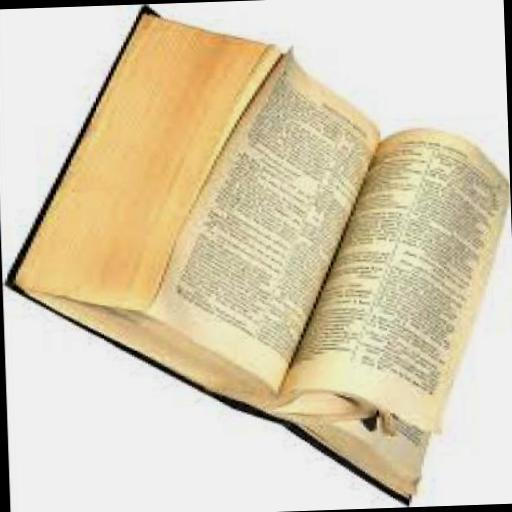paper: (1, 0, 512, 512), (138, 38, 390, 392), (275, 123, 512, 438)
